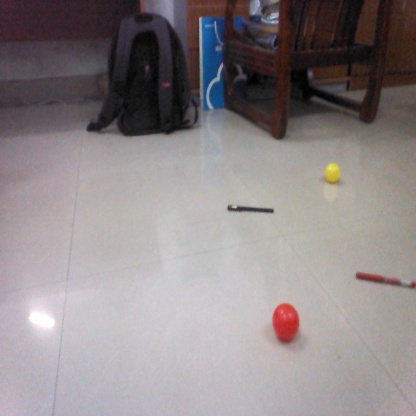ball: (272, 302, 301, 343), (323, 162, 342, 183)
pen: (357, 271, 415, 286), (225, 204, 276, 215)
